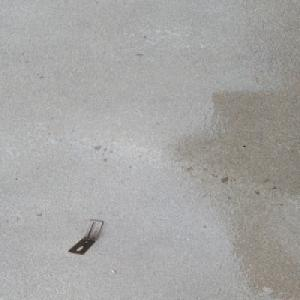MetalPart: (67, 219, 105, 255)
